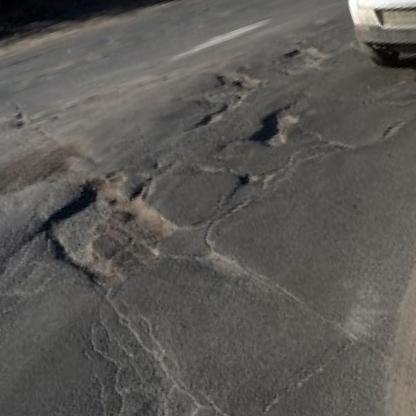pothole: (28, 154, 185, 299), (242, 101, 309, 156), (190, 105, 231, 130), (236, 167, 264, 190), (228, 75, 248, 93), (214, 69, 232, 88), (283, 46, 303, 60), (150, 157, 165, 172), (14, 119, 27, 129), (14, 108, 24, 119)
